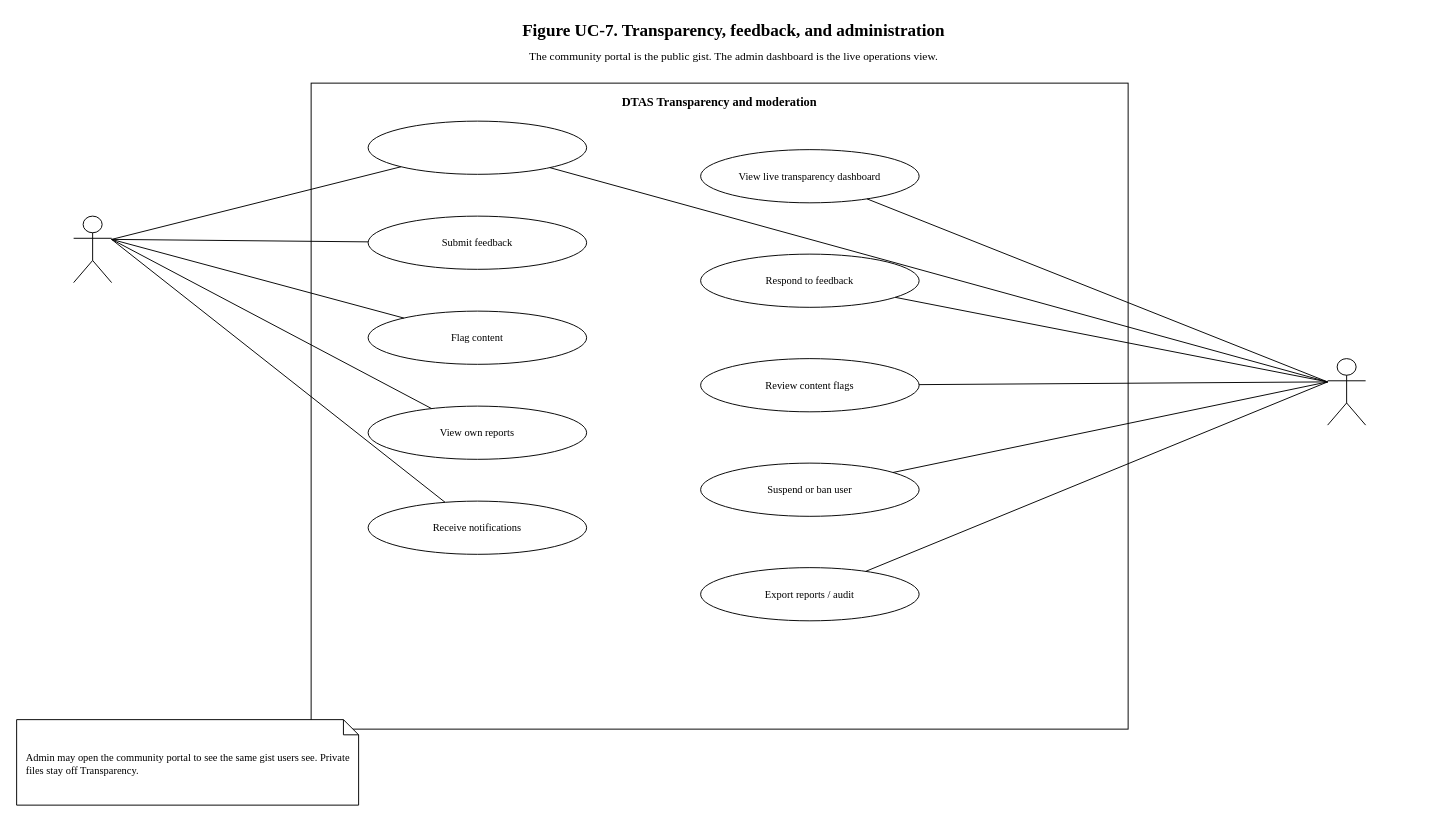
The diagram is 1449 pixels wide and 822 high, and some of its shapes have lost their labels. Each missing label, with the centre of its shape:
"Campus user" belongs at point 92,249.
"System Admin" belongs at point 1346,391.
"View community transparency portal" belongs at point 477,147.
